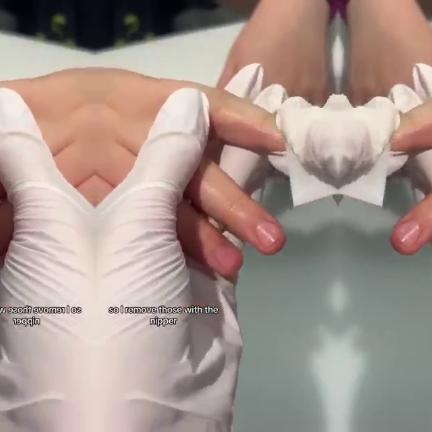Nail: (255, 220, 281, 249), (393, 220, 419, 249), (212, 245, 238, 267)
